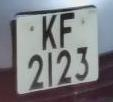1: (44, 50, 56, 91)
2: (25, 52, 47, 93), (54, 48, 75, 88)
3: (72, 43, 92, 86)
F: (57, 11, 81, 51)
K: (39, 12, 59, 51)
